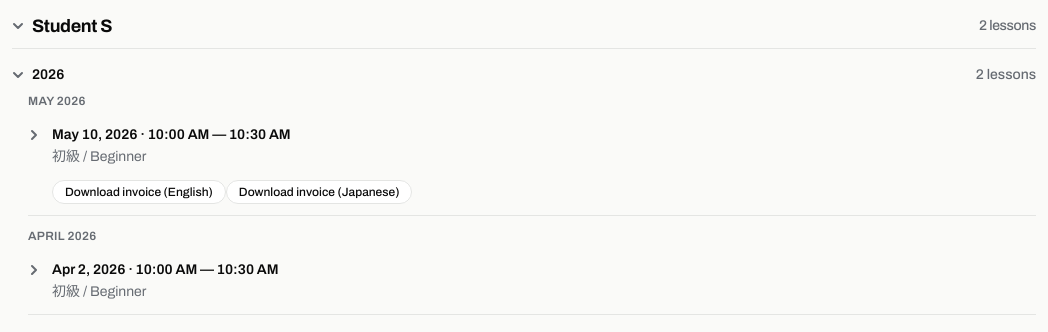
Test case: TeacherCompletedLessonsClient › a year is collapsible and counts its lessons across months
Step 1. Click the button "2026 2 lessons" → (48, 74), box [12,57,1036,93]
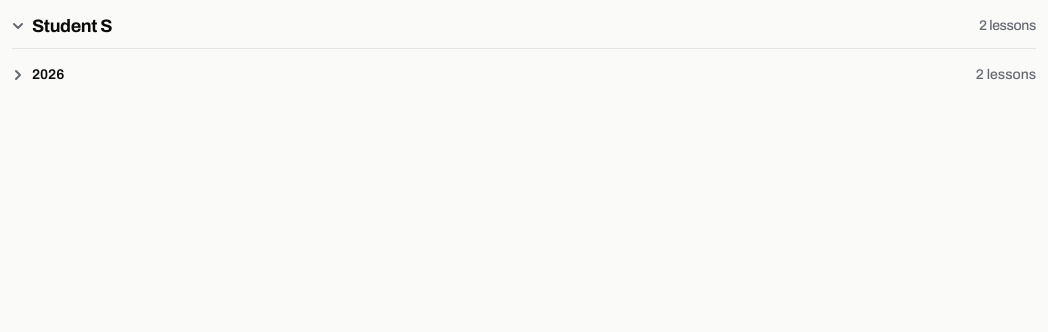
Result: the button "2026 2 lessons" is collapsed at [12,57,1036,93]
Result: the heading "May 2026" is gone
